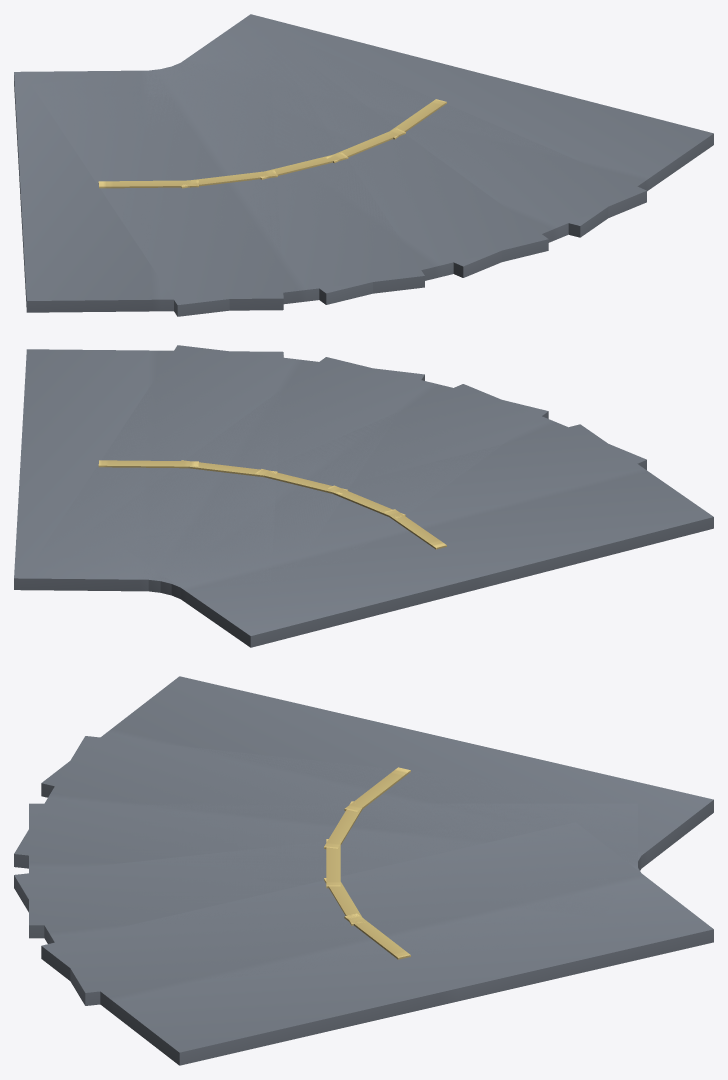
The model's file is road_bend.glb.
The picture shows the model from 3 angles, top to bottom: view 1: azimuth 30°, elevation 25°; view 2: azimuth 150°, elevation 25°; view 3: azimuth 270°, elevation 25°; orthographic projection. The views are drawn at different scales.
Visible parts, largest first — view 1: road_bend; view 2: road_bend; view 3: road_bend.
Boxes of the visible parts, bbox=[...] form: road_bend: bbox=[14, 14, 713, 316]; road_bend: bbox=[14, 345, 713, 647]; road_bend: bbox=[14, 676, 713, 1065].
Size of the model in its own units: 11.12 by 0.205 by 8.74.
Materials: 1 (1 with a texture image).
